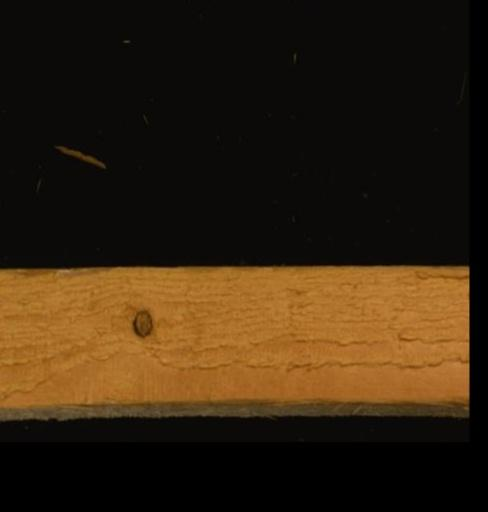dry_knot: (130, 305, 154, 340)
